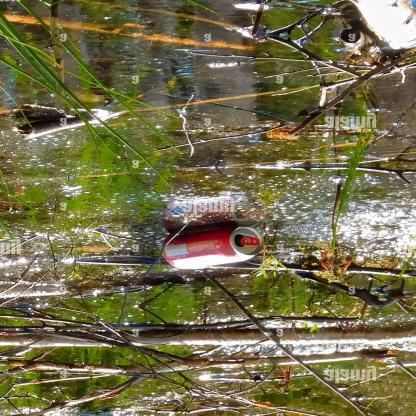Metal: (162, 224, 267, 272)
